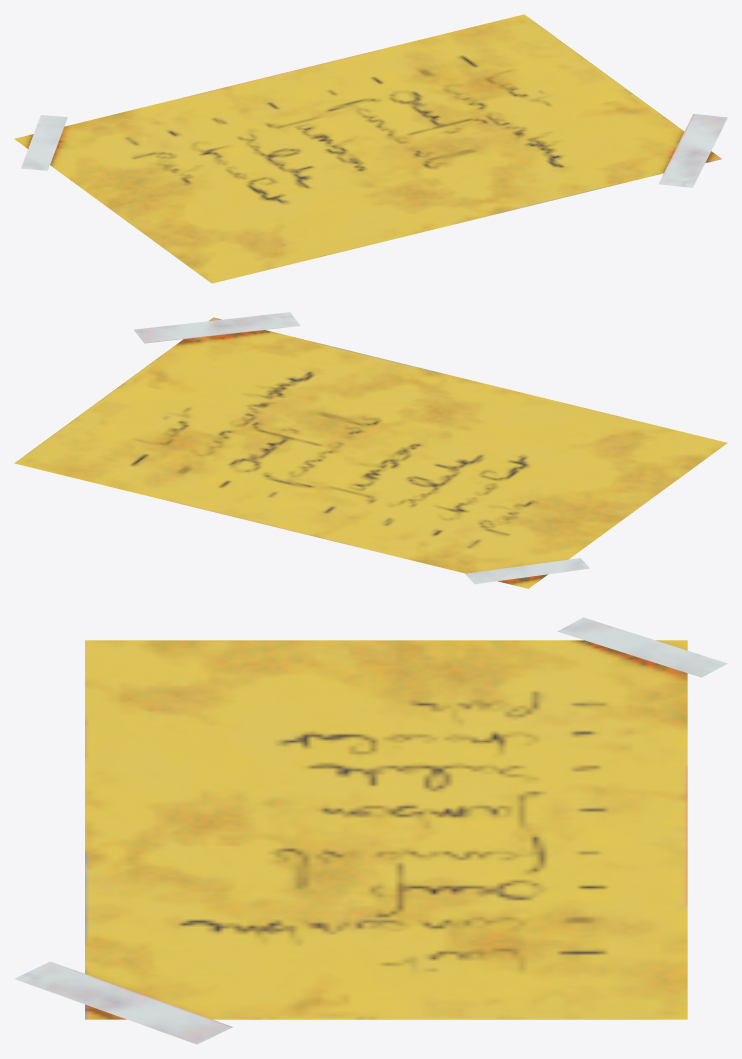
Rendered from SM_Magnets_16.fbx.
3 views of the same model, one above another, from view 1: azimuth 30°, elevation 25°; view 2: azimuth 150°, elevation 25°; view 3: azimuth 270°, elevation 25° (orthographic). The views are drawn at different scales.
Visible parts, largest first — view 1: SM_Magnets_16_LOD0; view 2: SM_Magnets_16_LOD0; view 3: SM_Magnets_16_LOD0.
Part boxes in pixels (bbox=[...]): SM_Magnets_16_LOD0: bbox=[14, 14, 727, 283]; SM_Magnets_16_LOD0: bbox=[14, 312, 727, 588]; SM_Magnets_16_LOD0: bbox=[14, 617, 727, 1044].
Size of the model in its own units: 32.39 by 22.67 by 0.2597.
1 material, 1 textured.
